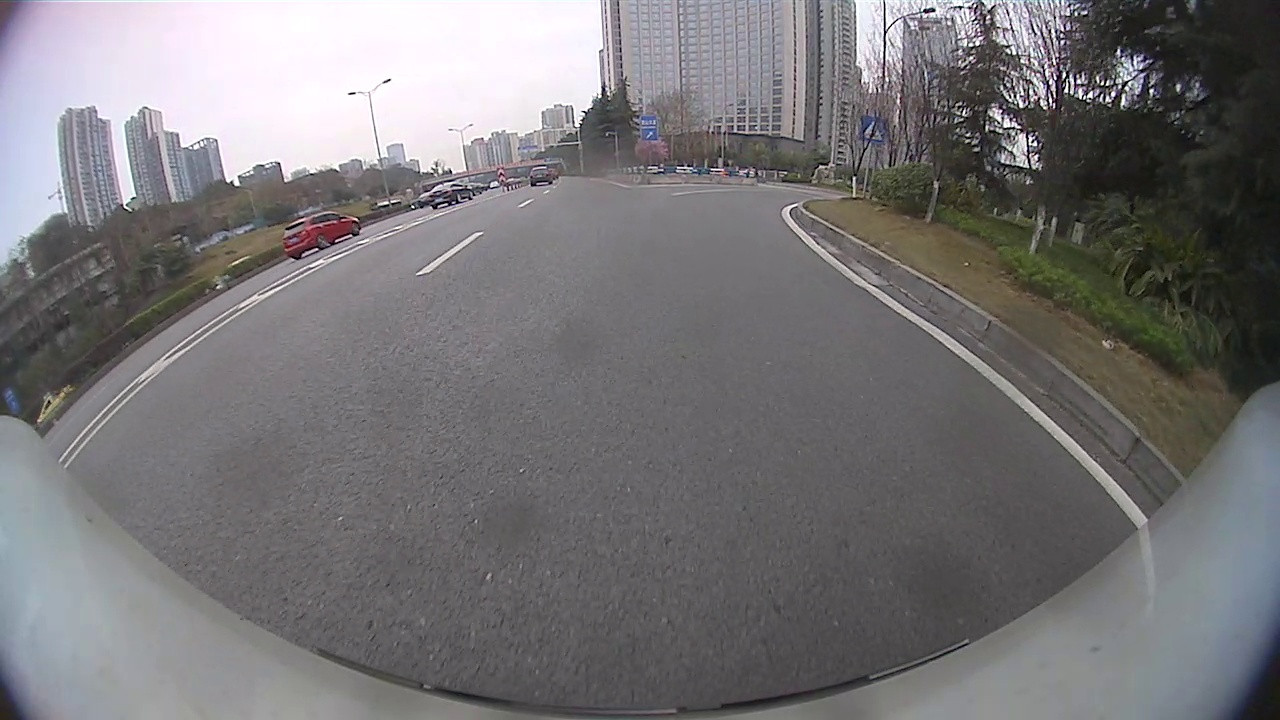car: (280, 208, 361, 261), (427, 179, 469, 207), (529, 165, 554, 187)
